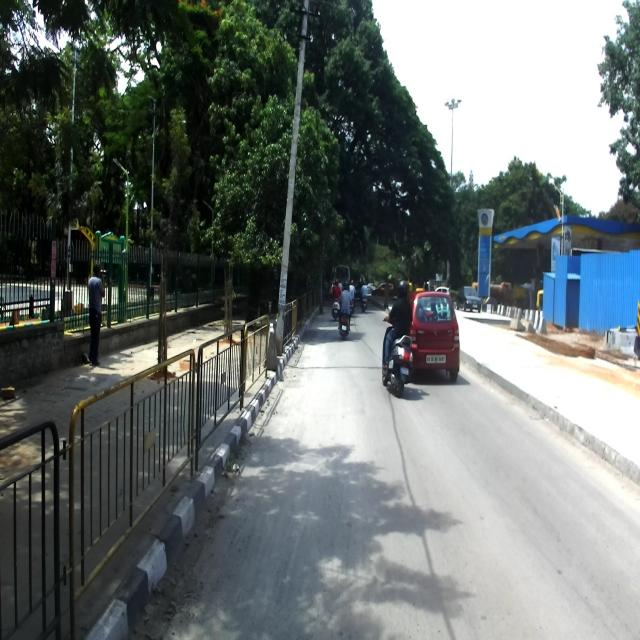scooter: (381, 302, 413, 398)
